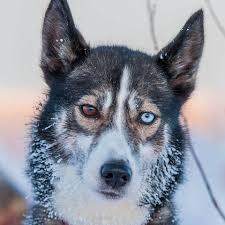Bulldog: (21, 2, 221, 222)
